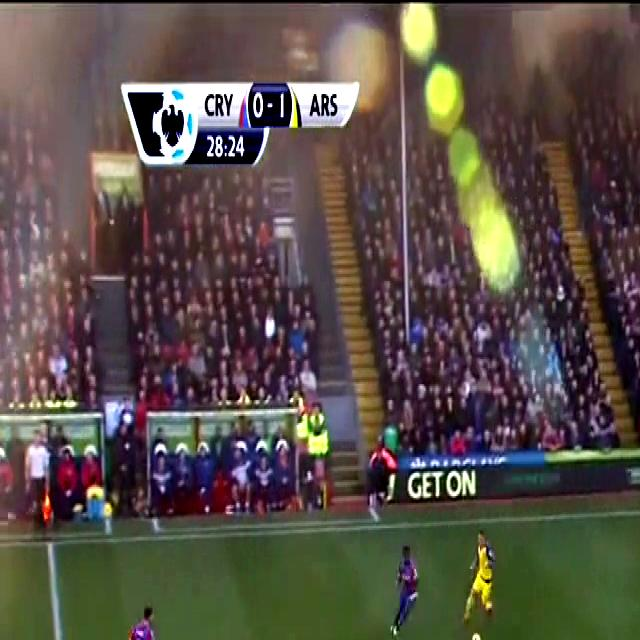ball: (470, 631, 481, 640)
soccer-player: (380, 535, 432, 640), (458, 525, 507, 624), (116, 602, 175, 640)
